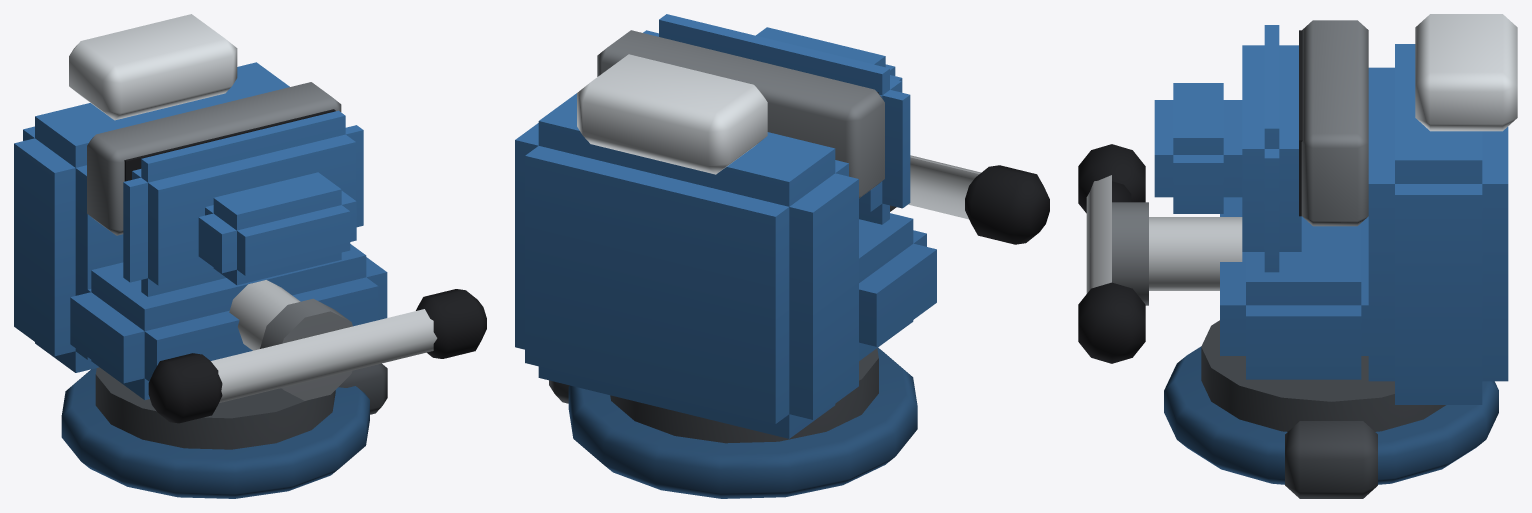
Rendered from SM_BenchVise_01.glb.
3 renders of one model, left to right at view 1: azimuth 30°, elevation 25°; view 2: azimuth 150°, elevation 25°; view 3: azimuth 270°, elevation 25°, orthographic. The views are drawn at different scales.
Parts seen in each view (by area): view 1: SM_BenchVise_01; view 2: SM_BenchVise_01; view 3: SM_BenchVise_01.
Part boxes in pixels (x1,y1,x2,y2): SM_BenchVise_01: [14, 14, 486, 498]; SM_BenchVise_01: [515, 14, 1049, 498]; SM_BenchVise_01: [1078, 14, 1517, 498].
Bounding box in the file's own units: 0.214 × 0.225 × 0.2361.
Materials: 1 (1 with a texture image).
